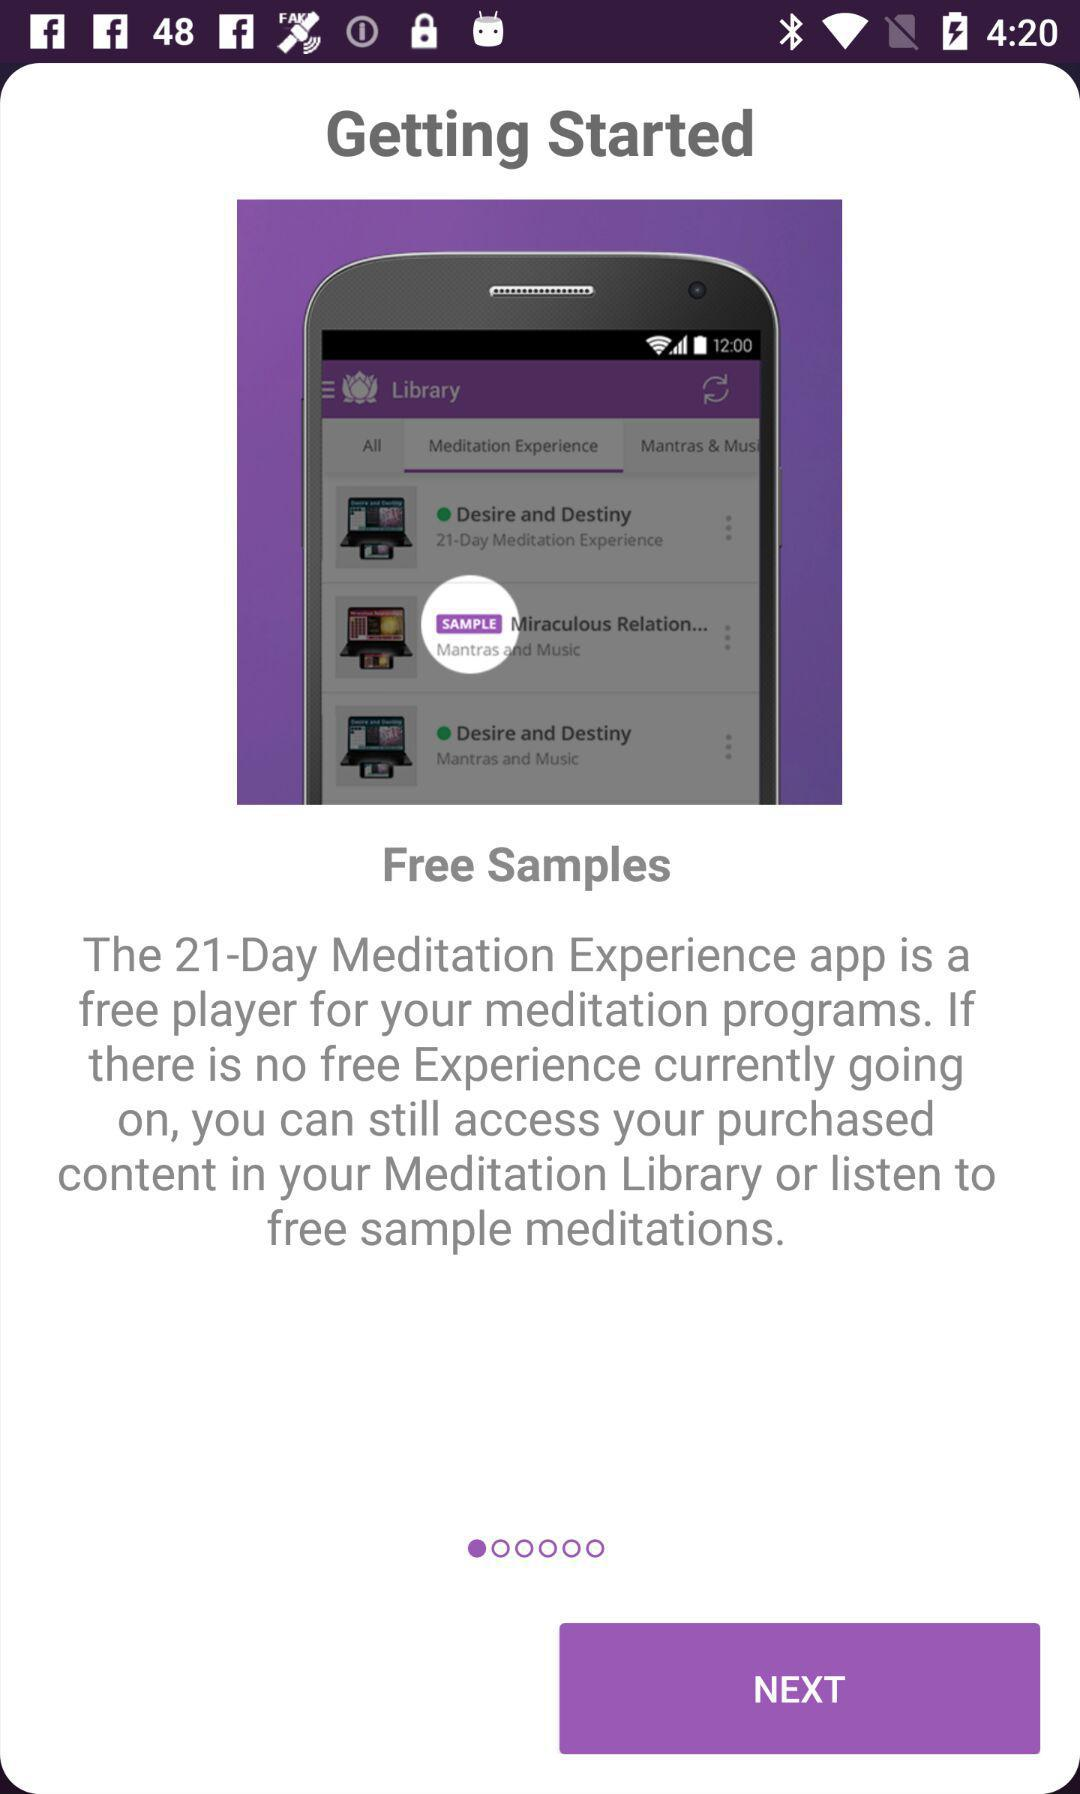Image: (238, 200, 844, 806)
PageIndicator: (468, 1536, 607, 1559)
Text: (58, 935, 997, 1258), (327, 106, 755, 172), (384, 844, 673, 893)
TextButton: (559, 1622, 1042, 1756)
UpperTaskBar: (1, 1, 1080, 64)
